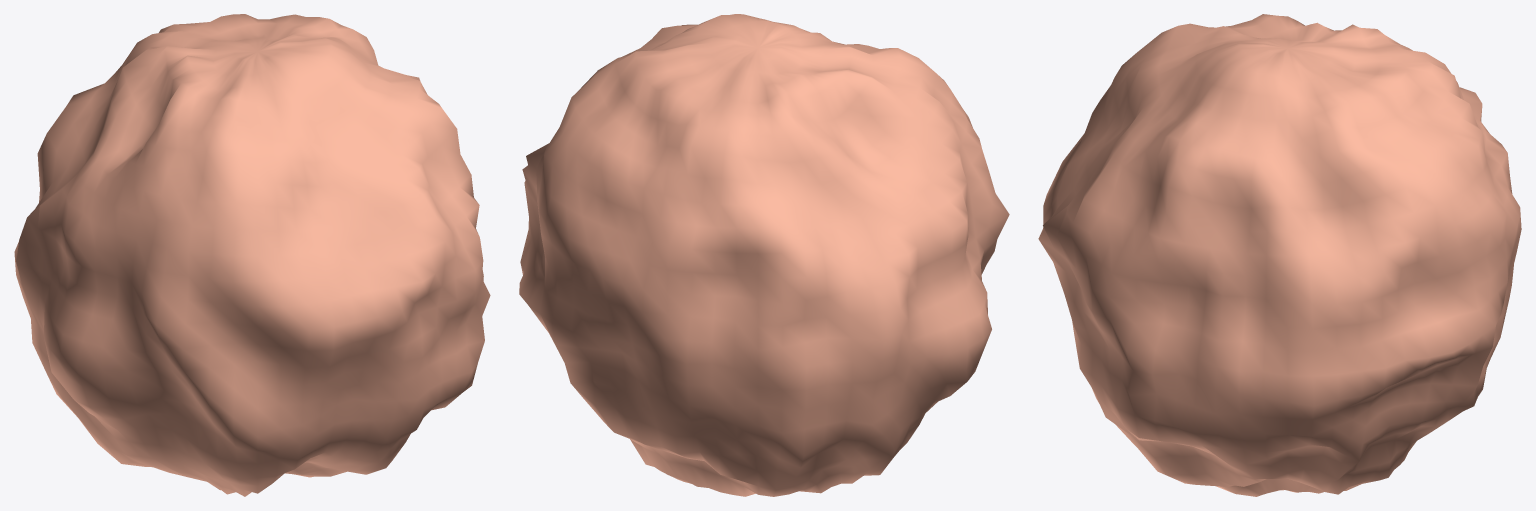
The model's file is 01 island redesign.fbx.
The picture shows the model from 3 angles, left to right: view 1: azimuth 30°, elevation 25°; view 2: azimuth 150°, elevation 25°; view 3: azimuth 270°, elevation 25°; orthographic projection.
Parts seen in each view (by area): view 1: Landscape; view 2: Landscape; view 3: Landscape.
Boxes of the visible parts, x1,y1,x2,y2 form: Landscape: [14, 14, 490, 496]; Landscape: [519, 14, 1009, 496]; Landscape: [1038, 14, 1521, 496].
Bounding box in the file's own units: 18834 × 18377 × 18285.
Materials: 1 (1 with a texture image).
